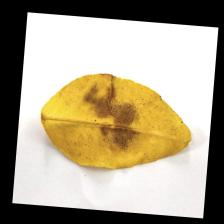black spot: (78, 82, 144, 155)
